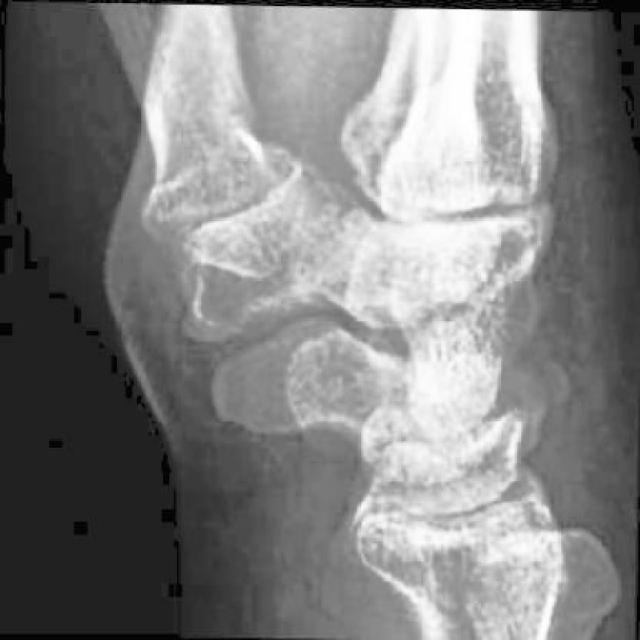Fracture: (501, 350, 577, 428)
